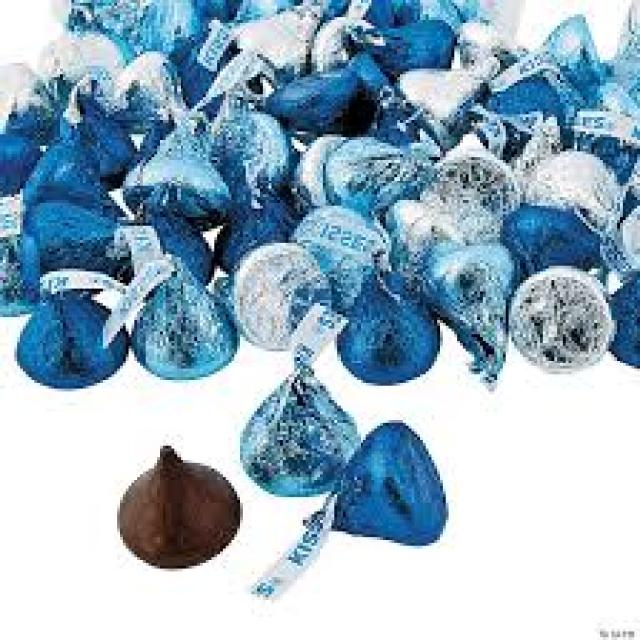kisses: (502, 262, 618, 375), (229, 239, 339, 352), (517, 133, 626, 239), (427, 122, 520, 238), (392, 49, 503, 138), (229, 1, 331, 81)
